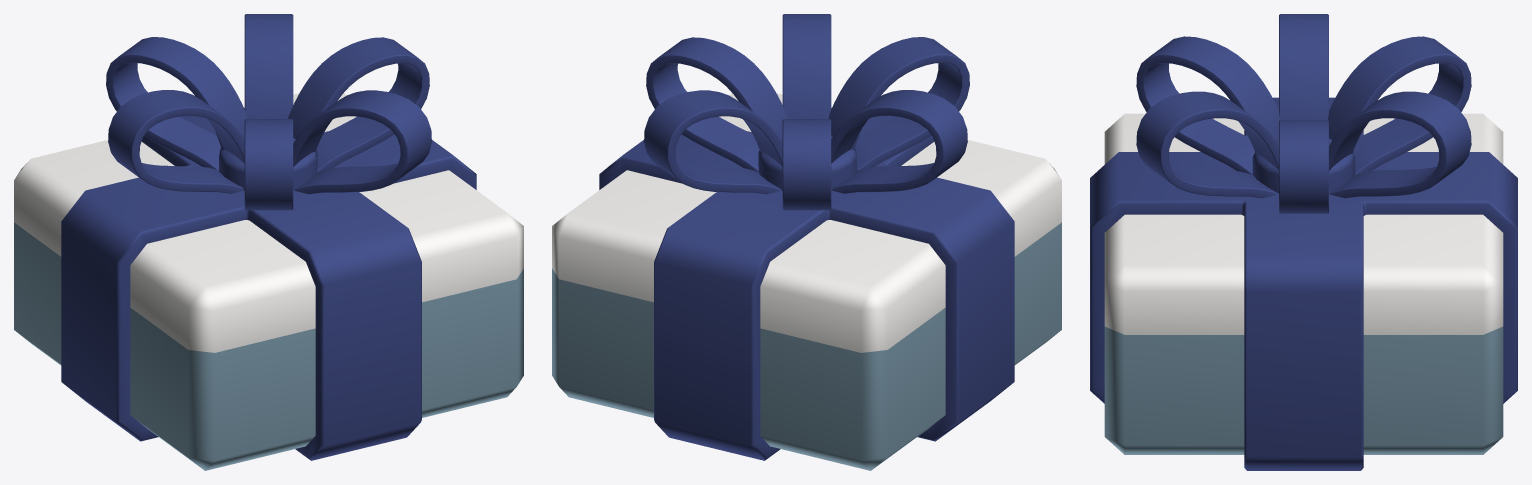
File: Present_3.glb
The picture shows the model from 3 angles, left to right: view 1: azimuth 30°, elevation 25°; view 2: azimuth 150°, elevation 25°; view 3: azimuth 270°, elevation 25°; orthographic projection. The views are drawn at different scales.
Parts seen in each view (by area): view 1: Present_3; view 2: Present_3; view 3: Present_3.
Boxes of the visible parts, x1,y1,x2,y2 form: Present_3: (14, 14, 523, 470); Present_3: (552, 14, 1061, 470); Present_3: (1090, 14, 1517, 470).
Size of the model in its own units: 0.2783 by 0.228 by 0.2783.
1 material, 1 textured.
